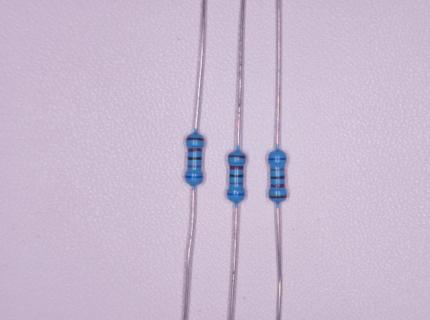Black band: (229, 174, 244, 177), (188, 157, 202, 160), (270, 176, 284, 179)
Blue band: (228, 192, 244, 195), (186, 176, 203, 178), (269, 158, 286, 160)
Brown band: (187, 138, 204, 141), (229, 155, 245, 158), (269, 196, 286, 198)
Grey band: (188, 165, 201, 168), (230, 182, 243, 185), (271, 169, 284, 171)
Red band: (188, 149, 202, 152), (230, 166, 244, 169), (271, 184, 285, 187)
